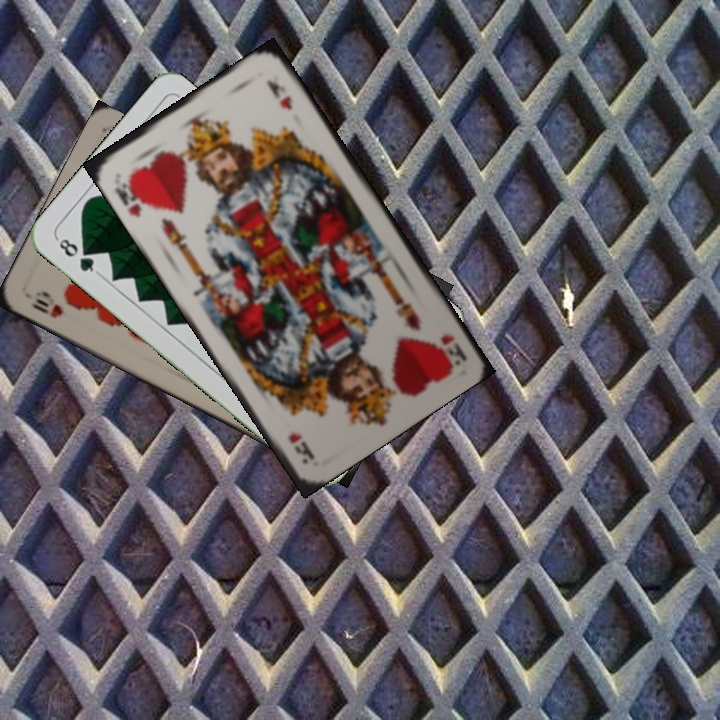G8: (53, 233, 102, 277)
H10: (27, 287, 66, 321)
HK: (110, 171, 152, 221), (436, 330, 469, 367)
